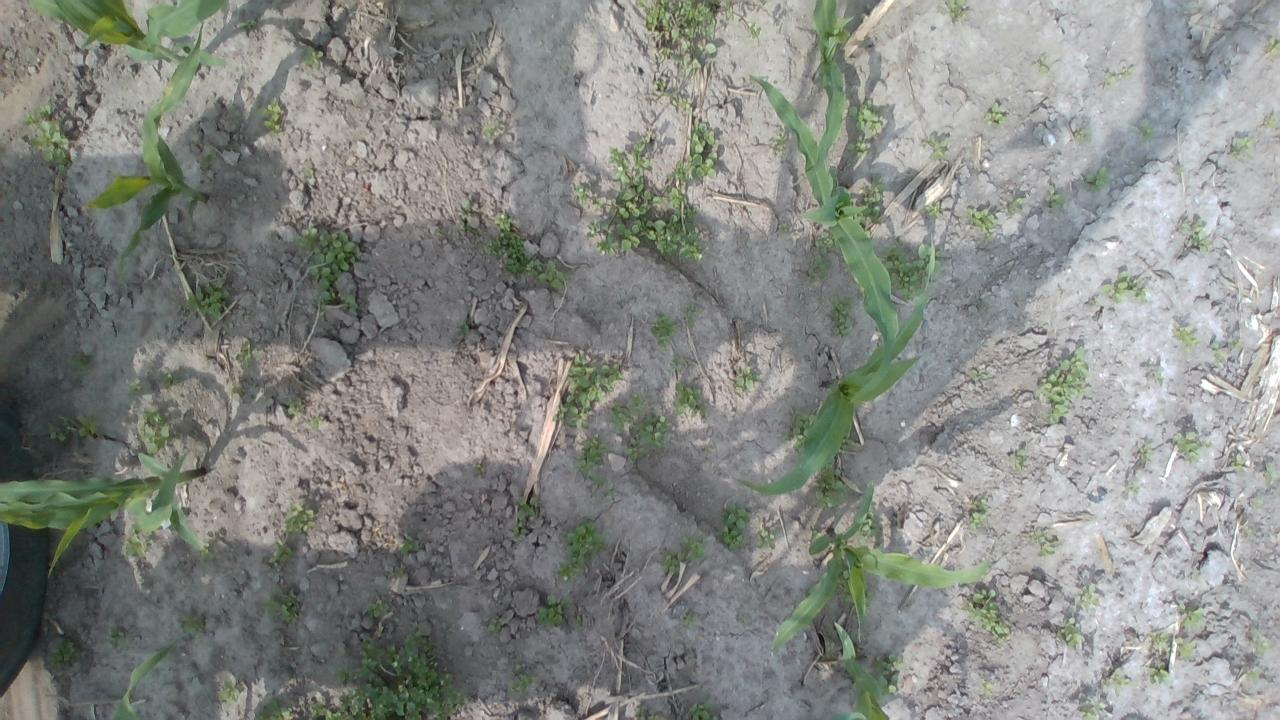Maize: (732, 230, 939, 502), (749, 73, 901, 402), (768, 483, 986, 650), (82, 23, 208, 292), (0, 444, 209, 574), (21, 0, 230, 68), (790, 0, 856, 184), (101, 637, 214, 720), (829, 619, 895, 720)
Weeds: (335, 630, 467, 720), (632, 0, 717, 77), (290, 224, 362, 314), (550, 351, 626, 430), (650, 185, 708, 267), (1033, 345, 1091, 424), (876, 242, 943, 301), (485, 212, 542, 280), (553, 517, 608, 584), (23, 102, 70, 176), (666, 122, 720, 184), (612, 177, 656, 252), (961, 588, 1012, 642), (607, 132, 653, 186), (571, 432, 609, 497), (848, 173, 887, 227), (46, 408, 104, 442), (712, 500, 751, 550), (185, 278, 231, 320), (138, 407, 178, 454), (810, 461, 849, 508), (779, 406, 818, 453), (608, 391, 647, 434), (1100, 270, 1148, 303), (872, 651, 906, 696), (456, 198, 485, 249), (1170, 429, 1213, 463), (260, 587, 300, 623), (847, 99, 883, 138), (652, 80, 692, 115), (280, 501, 318, 537), (634, 413, 672, 449), (532, 594, 573, 626), (586, 219, 620, 257), (538, 258, 575, 292), (675, 382, 708, 420), (829, 293, 858, 335), (44, 640, 84, 670), (650, 311, 679, 351), (255, 96, 282, 138), (122, 526, 156, 558), (1180, 218, 1212, 252), (506, 664, 538, 697), (250, 696, 292, 720), (1172, 320, 1199, 356), (571, 181, 604, 210), (967, 206, 997, 236), (233, 338, 261, 370), (857, 508, 880, 546), (1102, 666, 1131, 696), (920, 132, 949, 162), (1222, 134, 1255, 160), (267, 536, 297, 564), (729, 365, 760, 391), (1176, 602, 1204, 630), (678, 534, 708, 560), (834, 565, 854, 603), (310, 695, 340, 720), (966, 498, 989, 530), (982, 102, 1008, 130), (1074, 582, 1100, 610), (1060, 616, 1084, 646), (1104, 65, 1133, 89), (1130, 118, 1156, 144), (180, 612, 206, 638), (622, 437, 648, 463), (1032, 530, 1058, 556), (1084, 166, 1110, 192), (752, 526, 780, 550), (106, 625, 136, 647), (216, 678, 246, 700), (858, 572, 876, 608), (657, 548, 681, 574), (814, 230, 838, 256), (807, 255, 830, 282), (397, 532, 422, 556), (1078, 700, 1107, 720), (846, 135, 870, 159), (68, 352, 92, 376), (300, 44, 324, 68), (681, 300, 703, 326), (940, 0, 968, 20), (1147, 662, 1170, 686), (1148, 630, 1172, 653), (1006, 447, 1028, 472), (1042, 185, 1064, 210), (1249, 627, 1270, 653), (634, 702, 664, 720), (517, 496, 539, 520), (1174, 638, 1198, 660), (193, 540, 216, 562), (197, 146, 220, 168), (686, 702, 714, 720), (452, 316, 472, 340), (1208, 340, 1226, 366), (366, 597, 388, 618), (125, 376, 146, 397), (159, 372, 183, 390), (284, 396, 306, 415), (769, 132, 788, 154), (1261, 465, 1280, 487), (1138, 441, 1154, 466), (1147, 365, 1166, 386), (486, 119, 508, 137), (839, 433, 858, 452), (1034, 54, 1050, 76), (1074, 125, 1092, 144), (1006, 196, 1024, 215), (1124, 480, 1143, 498), (308, 413, 326, 431), (508, 521, 527, 538), (487, 616, 507, 632), (979, 677, 994, 698), (924, 202, 942, 219), (722, 0, 737, 20), (746, 20, 761, 39), (680, 610, 699, 625), (1232, 452, 1246, 472), (1262, 114, 1278, 131), (670, 354, 686, 371), (1266, 37, 1280, 56), (1228, 335, 1244, 349), (237, 17, 257, 28), (604, 483, 618, 498), (571, 616, 584, 632), (472, 464, 488, 476), (1244, 670, 1260, 682), (969, 369, 987, 379), (1172, 164, 1186, 176), (393, 567, 406, 579), (809, 528, 822, 540), (778, 222, 791, 234), (432, 228, 447, 238), (1250, 497, 1263, 507), (304, 168, 314, 177), (1243, 524, 1252, 534), (864, 229, 872, 240), (740, 618, 748, 626)
